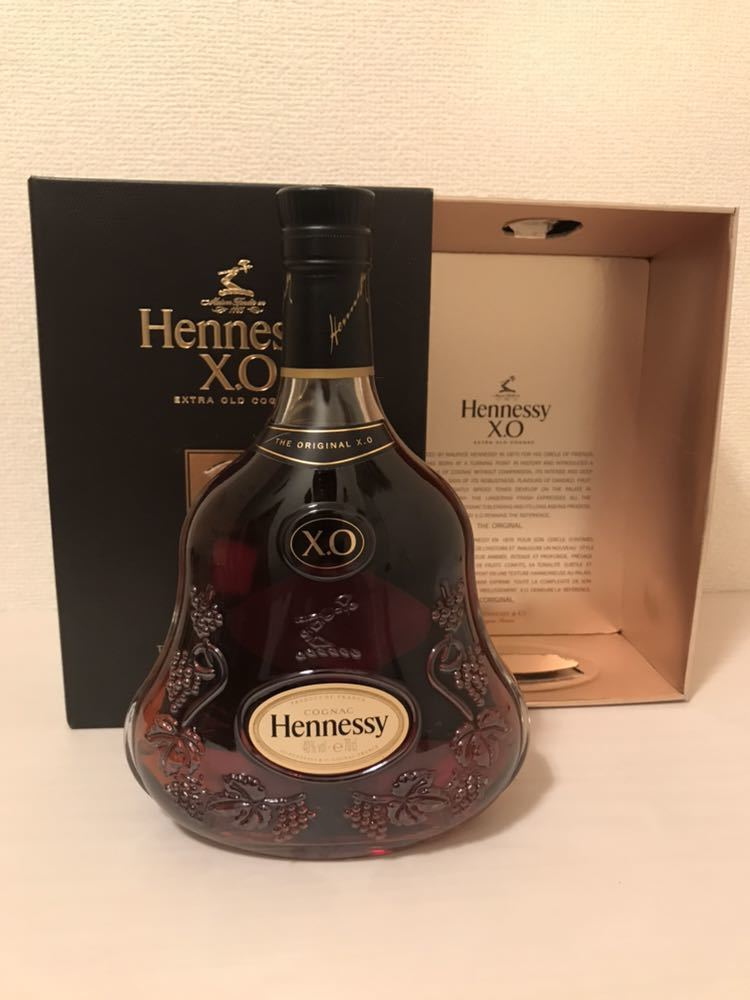Hennessy: (109, 159, 542, 871)
